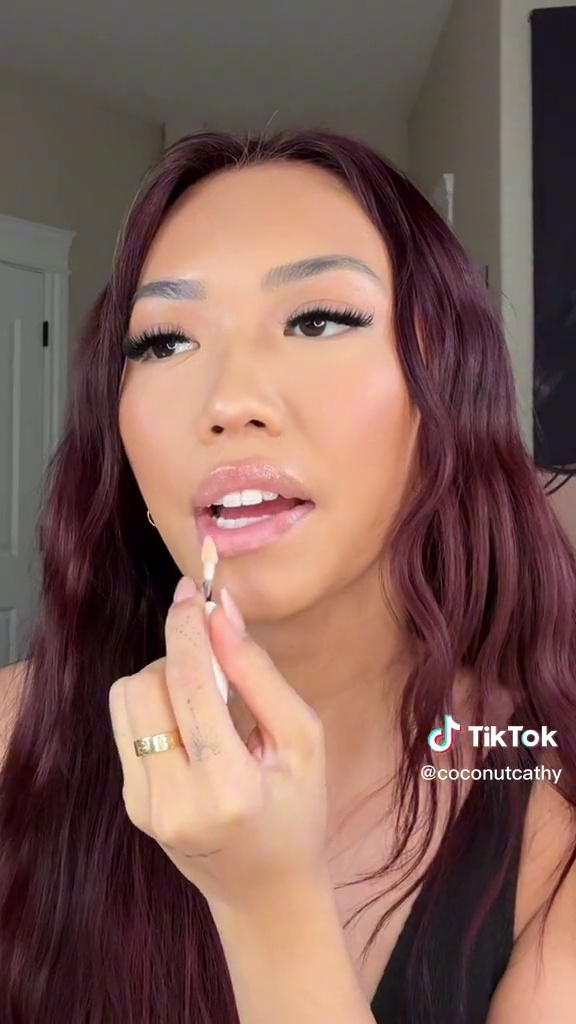train' :'yolo_data/train/images',: (161, 521, 238, 724)
